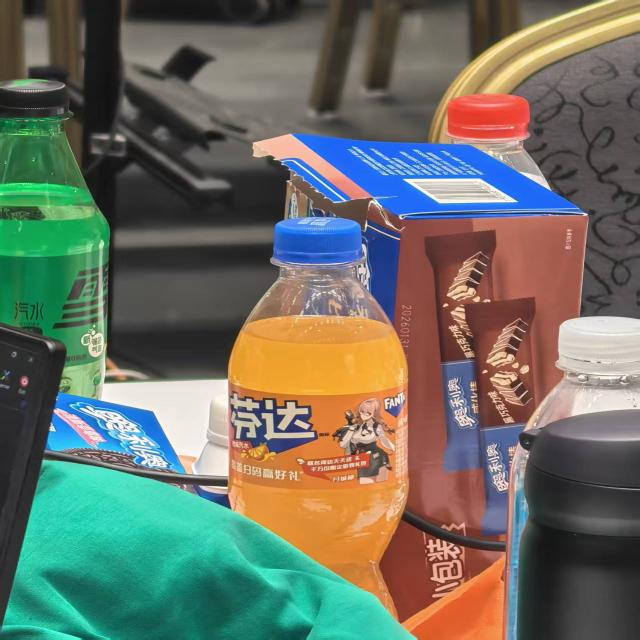orange: (222, 393, 327, 461)
